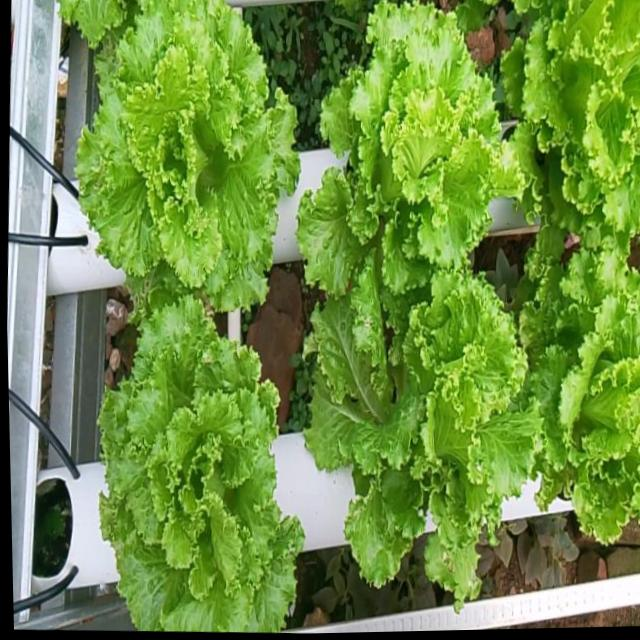Mature: (304, 268, 538, 617), (75, 0, 300, 312), (98, 291, 304, 629), (296, 0, 521, 294), (501, 0, 640, 264), (519, 246, 640, 540)
